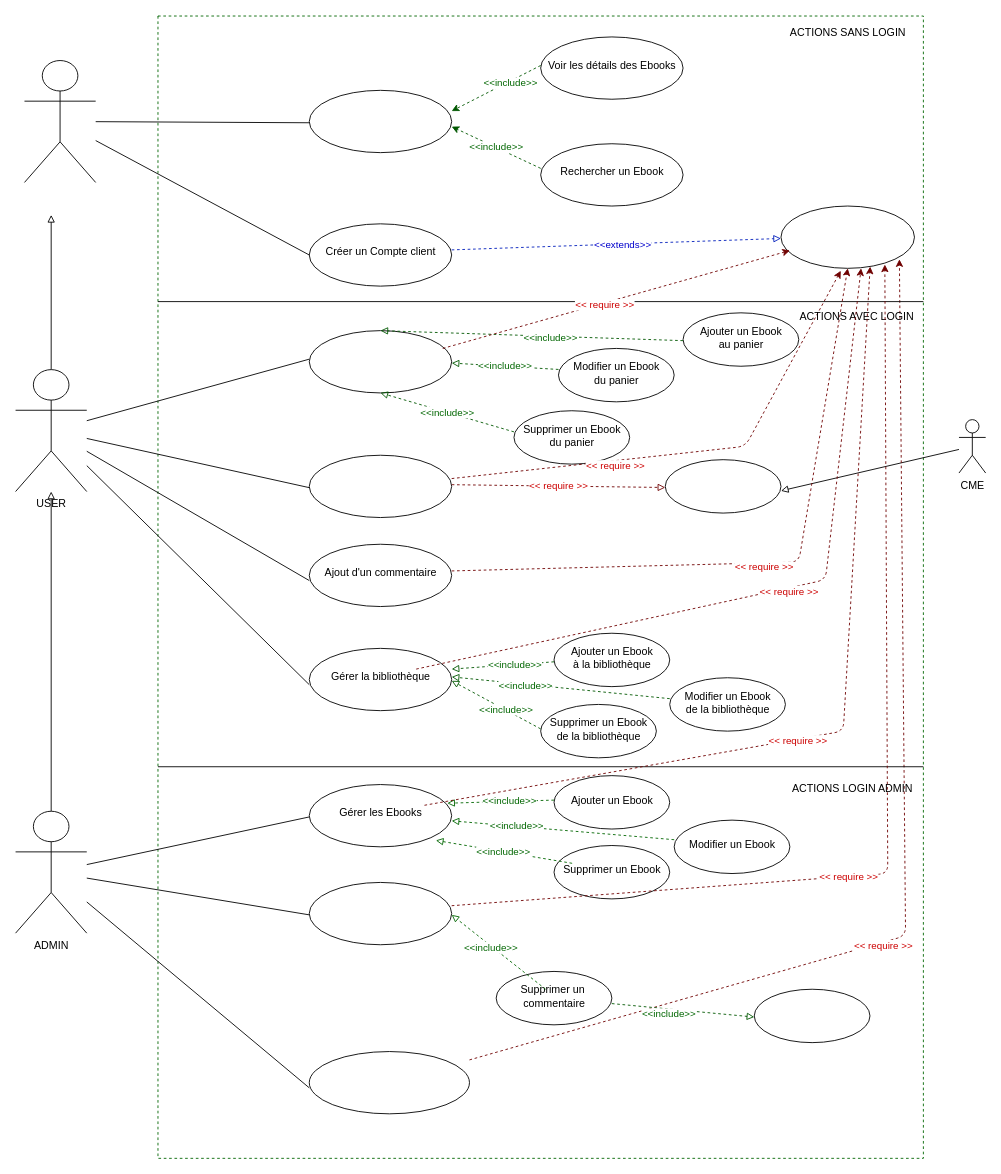
Some shapes in this 1001 by 1174 pixel diagram are drawn without their labels. The shapes that lost their labels are listed below. From the top down, each one's box as (x1, y1, x2, y2) in pixels, then its label:
(24, 60, 96, 182): VISITOR
(308, 89, 452, 153): Consulter les Ebooks
(780, 205, 914, 268): S'authentifier
(308, 330, 452, 393): Gérer le panier
(308, 454, 452, 518): Passer une commande
(664, 459, 781, 513): PAYER
(308, 882, 452, 945): Gérer les commentaires
(753, 988, 870, 1043): Informer le User
(308, 1051, 469, 1114): Gérer les comptes utilisateurs
